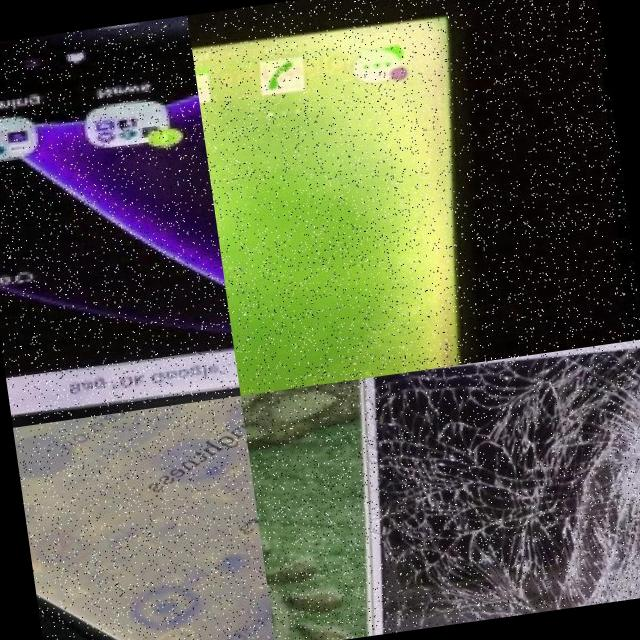screen crack: (326, 339, 640, 637)
